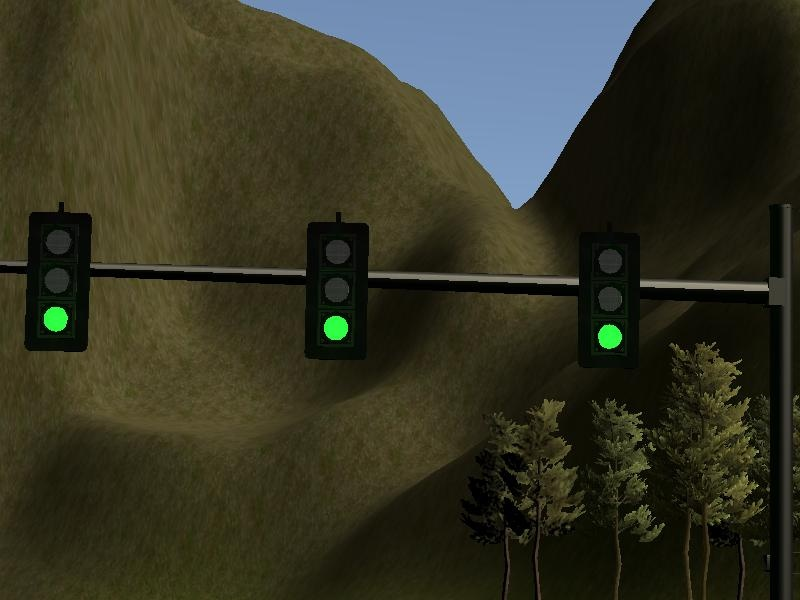green: (303, 218, 366, 361), (24, 214, 87, 352), (577, 231, 639, 365)
